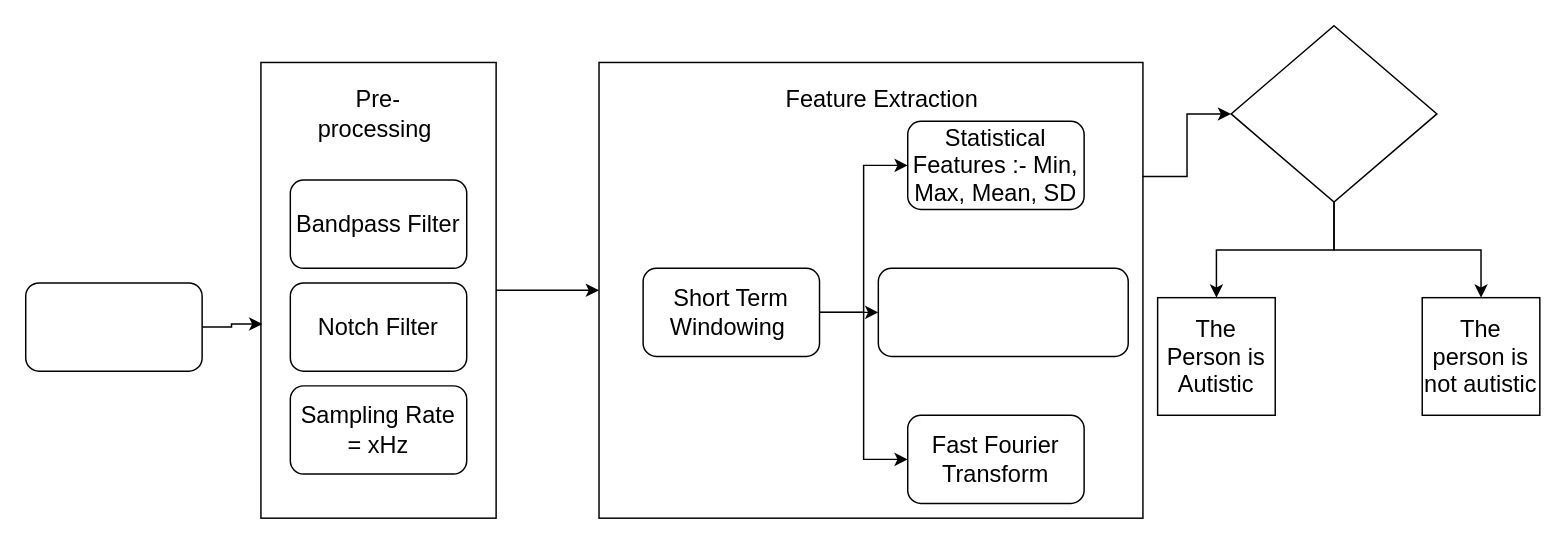
This 1566x544 diagram has some shape labels left out. Each missing label, with the box of its shape:
Classification: (1230, 24, 1437, 202)
Log Covariance+Euclidean distance: (877, 267, 1128, 356)
Raw EEG Signal: (24, 282, 202, 371)
